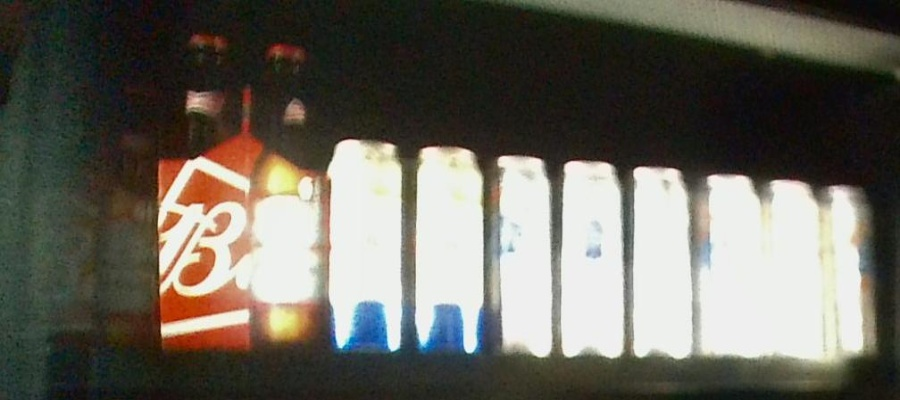bottle: (160, 32, 330, 348), (489, 148, 694, 356), (698, 166, 877, 363), (29, 79, 159, 350), (332, 134, 487, 351)
